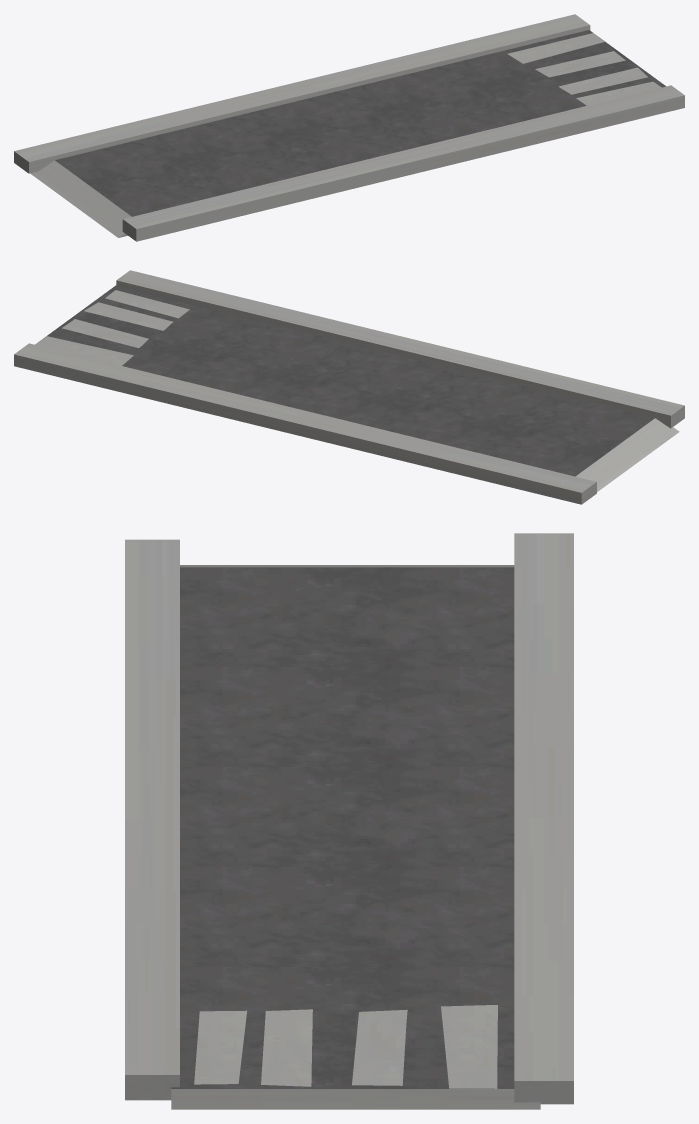
Rendered from doroga pramo.fbx.
The picture shows the model from 3 angles, top to bottom: view 1: azimuth 30°, elevation 25°; view 2: azimuth 150°, elevation 25°; view 3: azimuth 270°, elevation 25°; orthographic projection. The views are drawn at different scales.
Visible parts, largest first — view 1: дарога.001; view 2: дарога.001; view 3: дарога.001.
Boxes of the visible parts, x1,y1,x2,y2 form: дарога.001: (14, 14, 684, 241); дарога.001: (14, 270, 684, 504); дарога.001: (125, 533, 573, 1109).
Size of the model in its own units: 2362 by 63.59 by 818.
